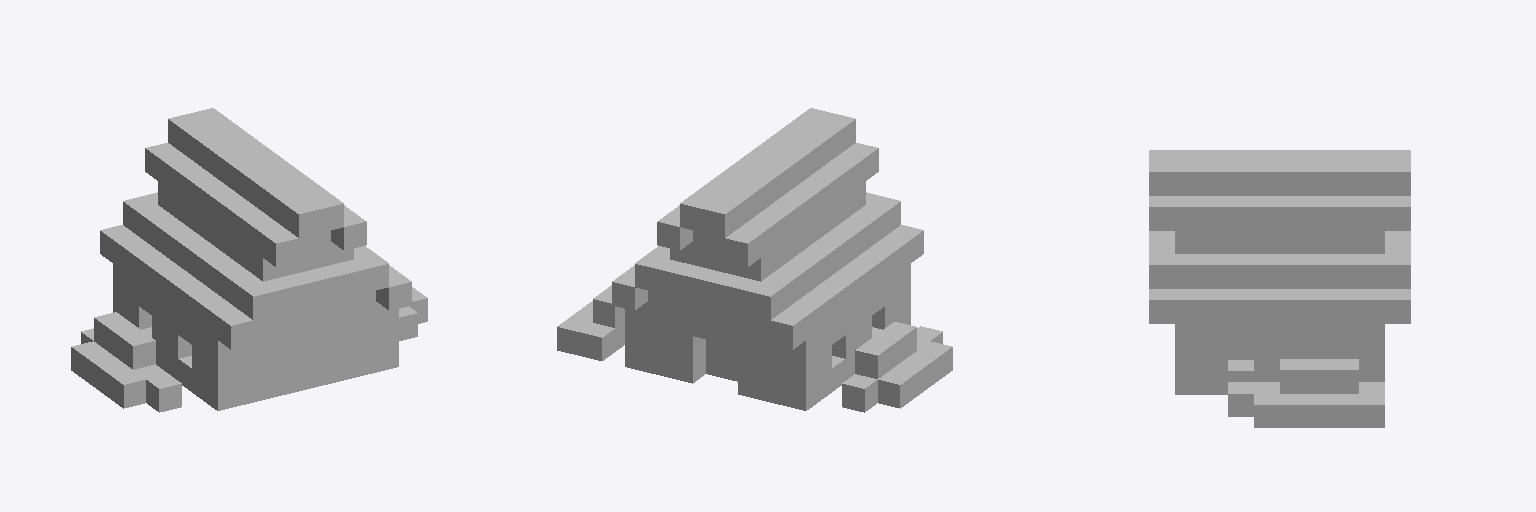
Rendered from civ_woodhouse2.obj.
3 views of the same model, side by side, from view 1: azimuth 30°, elevation 25°; view 2: azimuth 150°, elevation 25°; view 3: azimuth 270°, elevation 25° (orthographic).
Visible parts, largest first — view 1: model.001; view 2: model.001; view 3: model.001.
Part boxes in pixels (left/top/right/bottom): model.001: left=71, top=108, right=427, bottom=412; model.001: left=557, top=108, right=952, bottom=412; model.001: left=1149, top=150, right=1410, bottom=427.
Size of the model in its own units: 0.875 by 0.5 by 0.625.